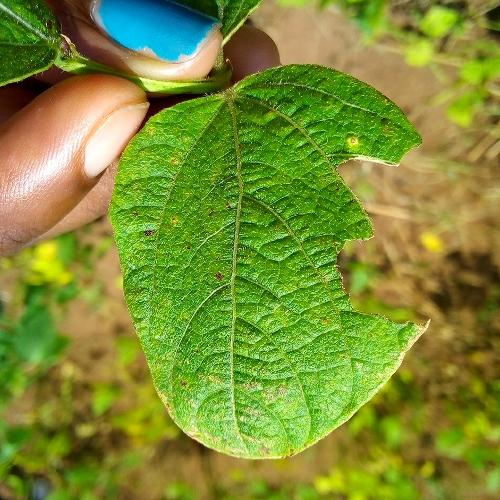mozaik: (308, 119, 468, 376)
